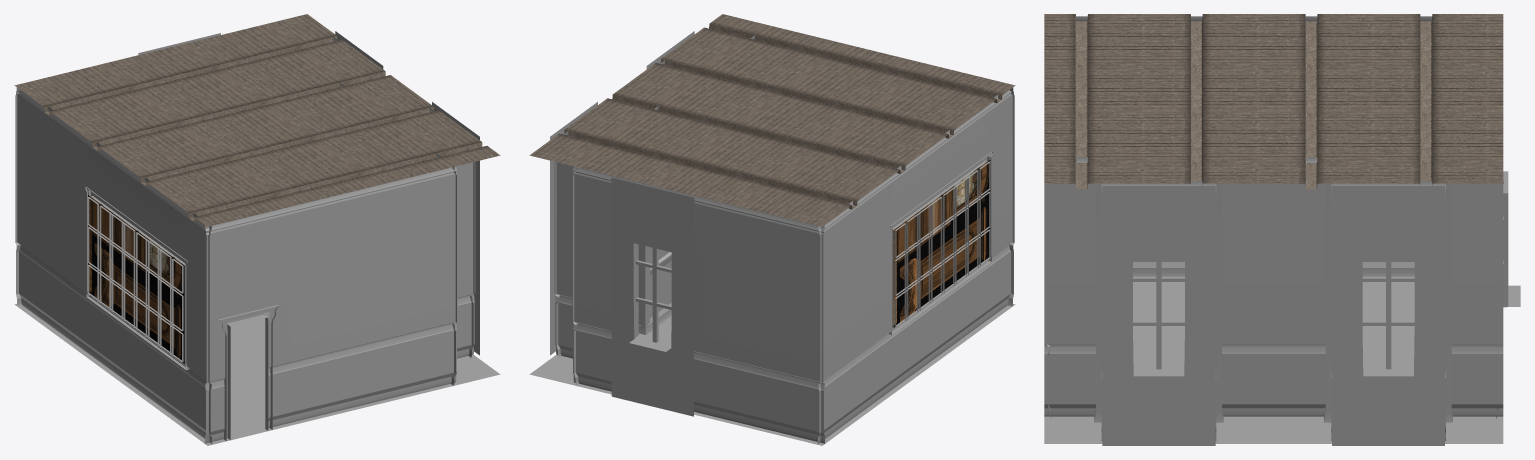
The model's file is room_dining.fbx.
The picture shows the model from 3 angles, left to right: view 1: azimuth 30°, elevation 25°; view 2: azimuth 150°, elevation 25°; view 3: azimuth 270°, elevation 25°; orthographic projection. The views are drawn at different scales.
Parts seen in each view (by area): view 1: room; view 2: room; view 3: room.
Part boxes in pixels (x1,y1,x2,y2): room: (14,14,500,445); room: (529,14,1015,445); room: (1044,14,1520,445).
Bounding box in the file's own units: 731 × 500 × 830.
Materials: 4 (2 with a texture image).
